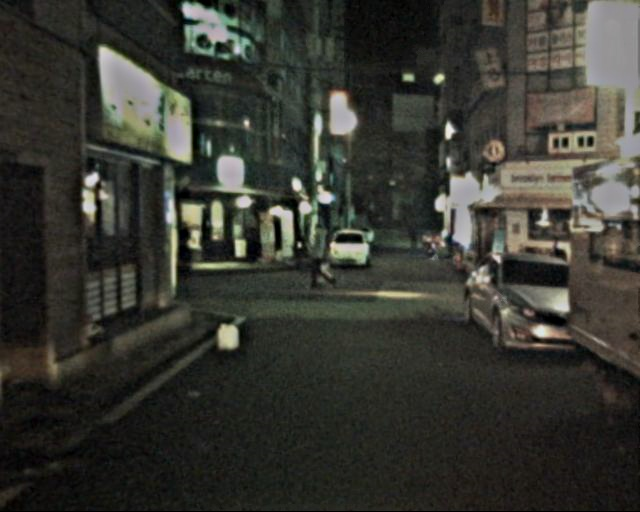person: (303, 222, 335, 295)
